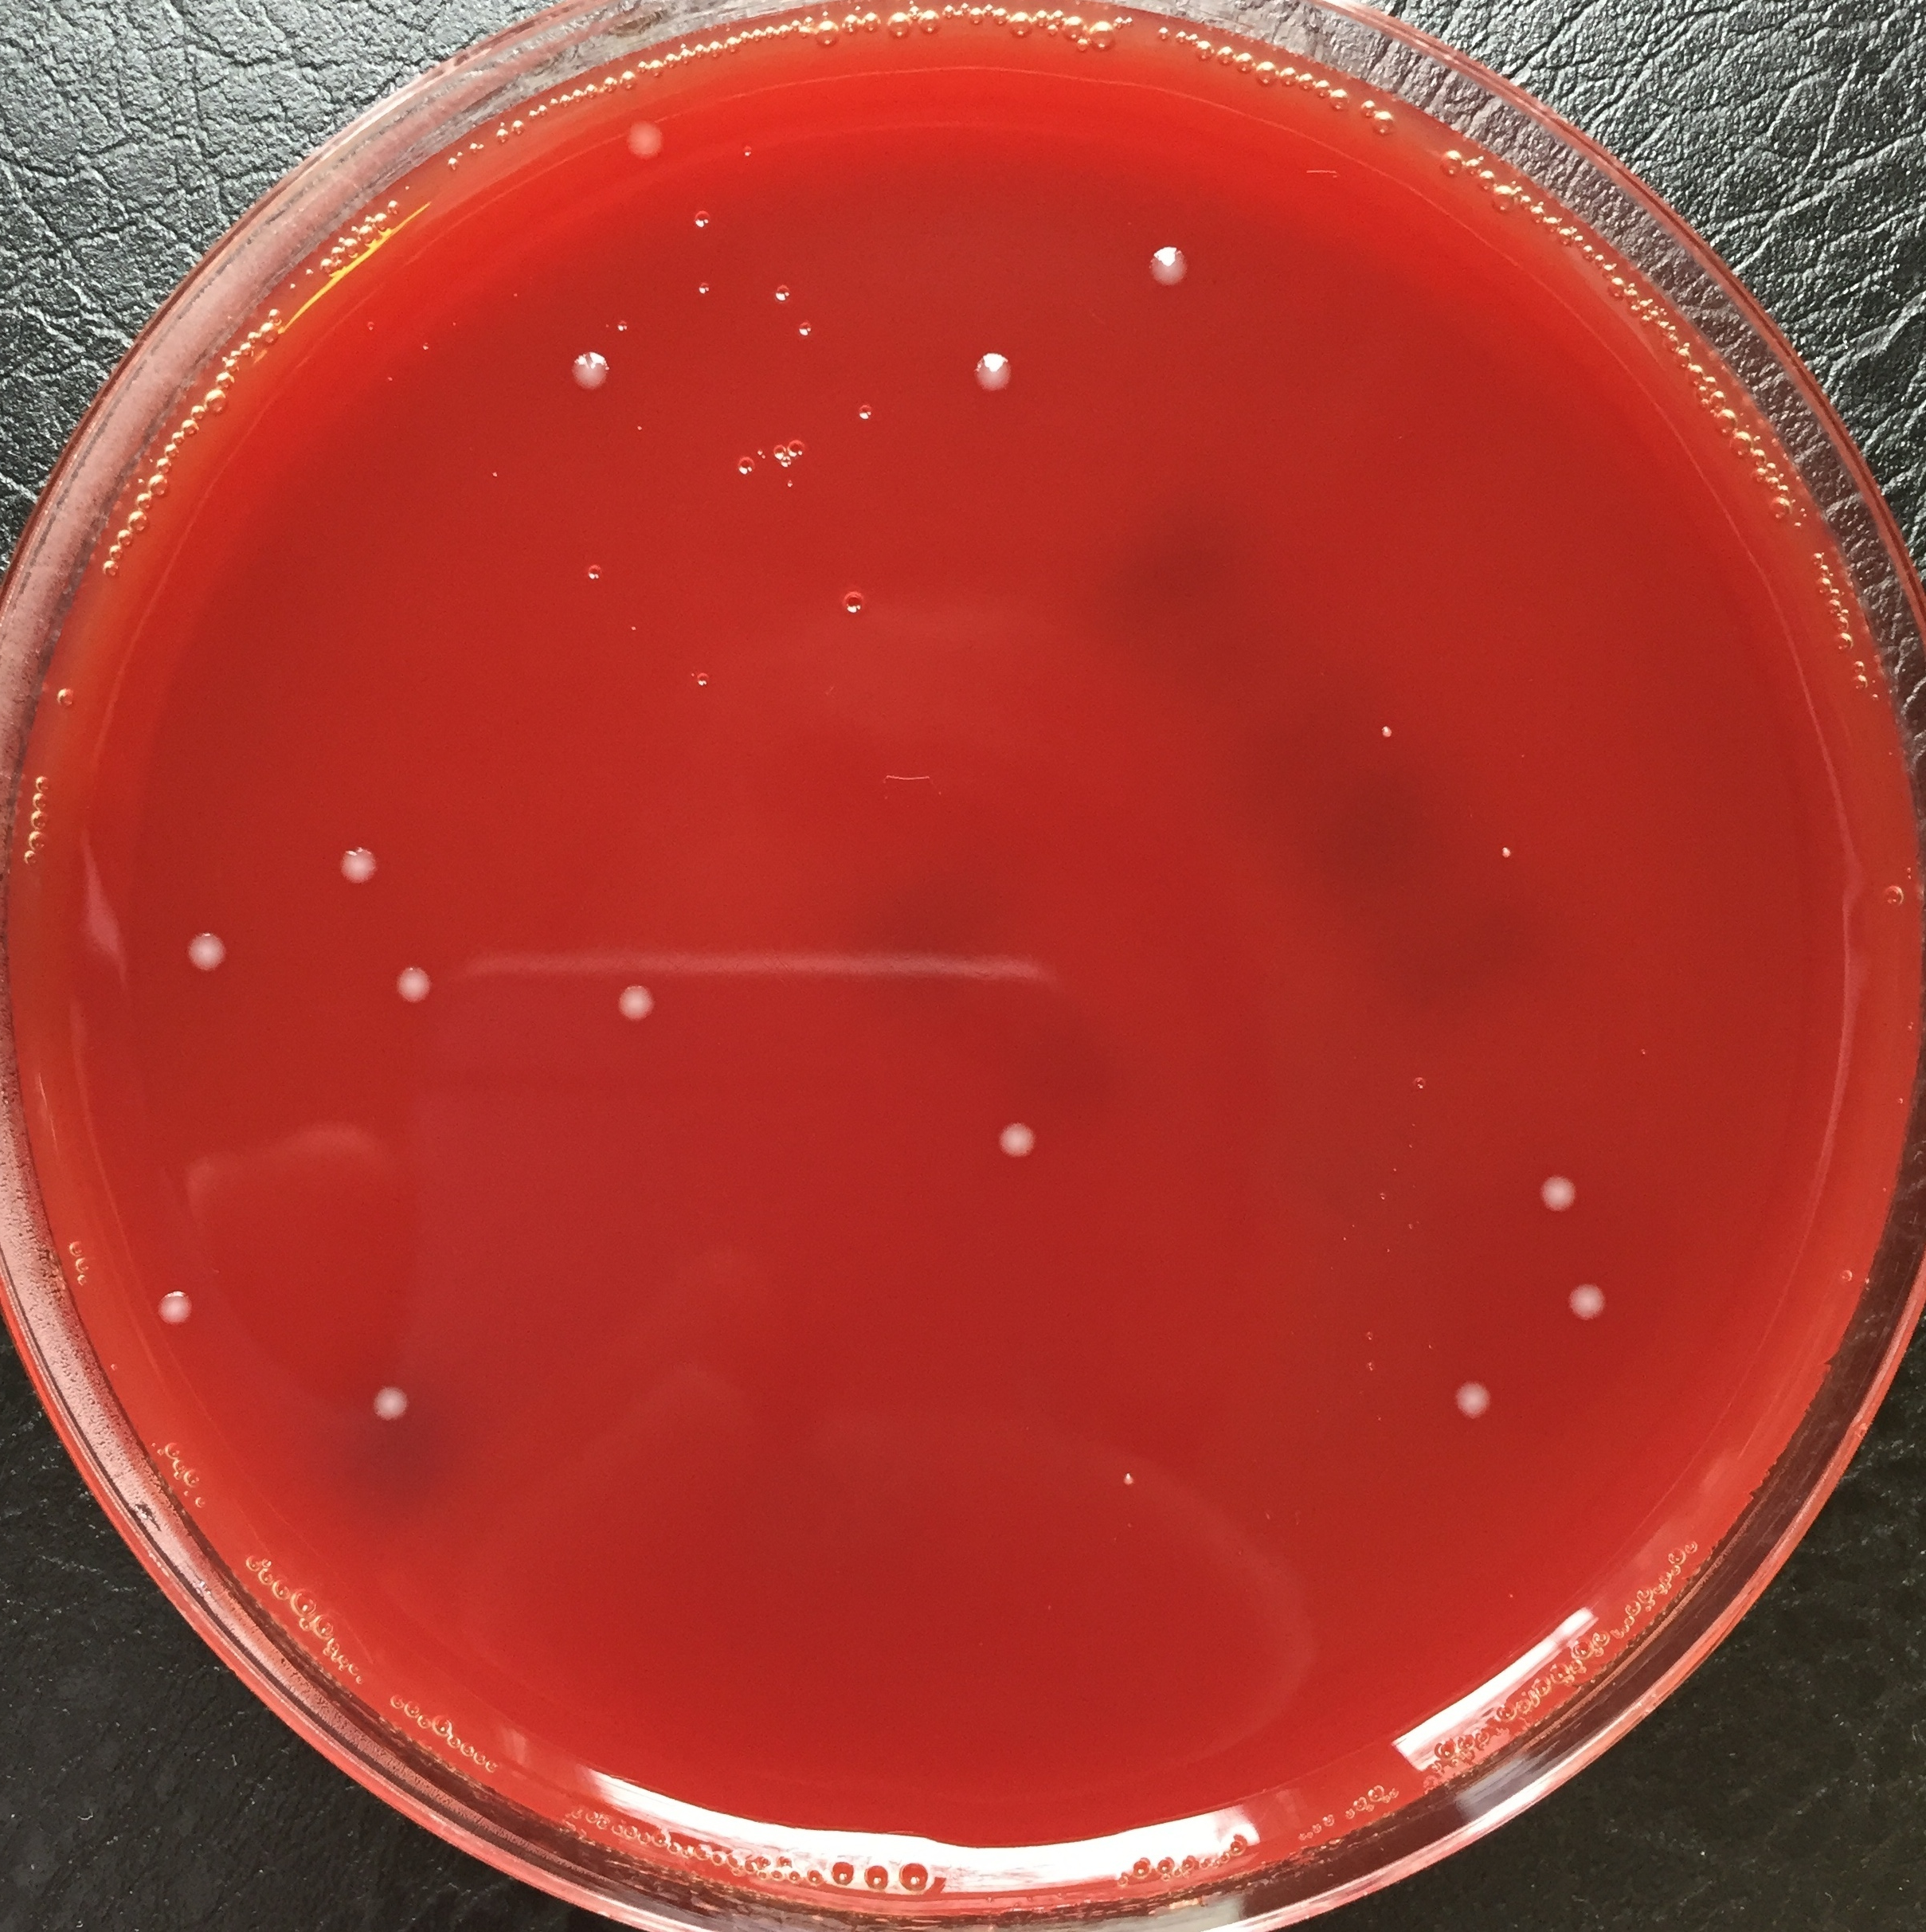sp14: (351, 1364, 422, 1438), (127, 1270, 201, 1334), (1550, 1269, 1616, 1337), (965, 344, 1028, 409), (1132, 238, 1203, 296), (330, 831, 388, 900), (605, 970, 670, 1030), (1446, 1360, 1496, 1434), (616, 104, 665, 173), (176, 917, 228, 983), (989, 1112, 1046, 1170), (564, 339, 616, 402), (390, 951, 439, 1009), (1534, 1168, 1580, 1217)
